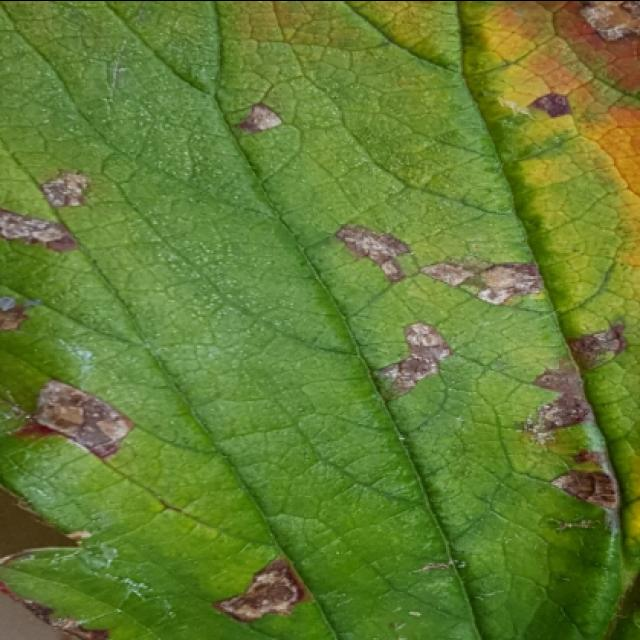Angular Leafspot: (0, 2, 638, 640)
